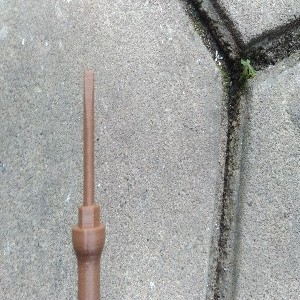obeng: (72, 70, 106, 300)
